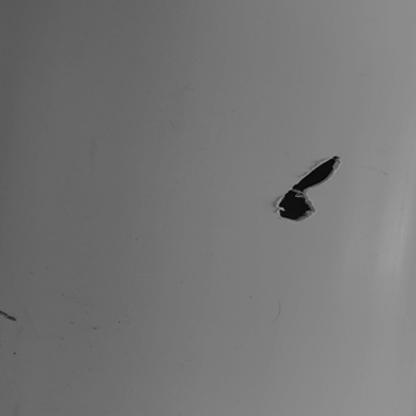fengxi: (1, 309, 19, 324)
kongdong: (274, 156, 343, 223)
